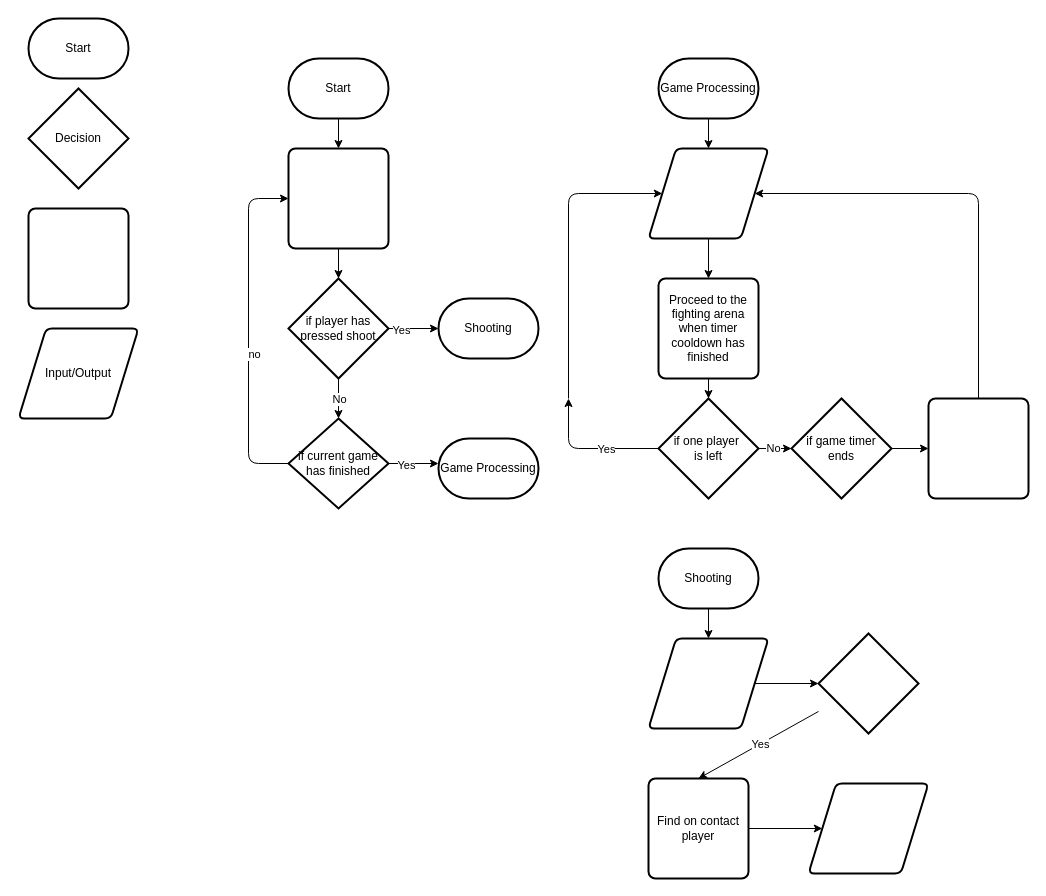
Some shapes in this 1046 by 896 pixel diagram are drawn without their labels. The centre of each missing label's shape, as x and y in pixels:
"Apply 1 score to player that fired the bullet" goes at pixel 868 828.
"Create Bullet" goes at pixel 708 683.
"if contact is player" goes at pixel 868 683.
"Initiate player, setup arena, player scores and game timer" goes at pixel 338 198.
"Players pick their respective weapons in gear up phase" goes at pixel 708 193.
"Proceed to next round" goes at pixel 978 448.
"Process" goes at pixel 78 258.
